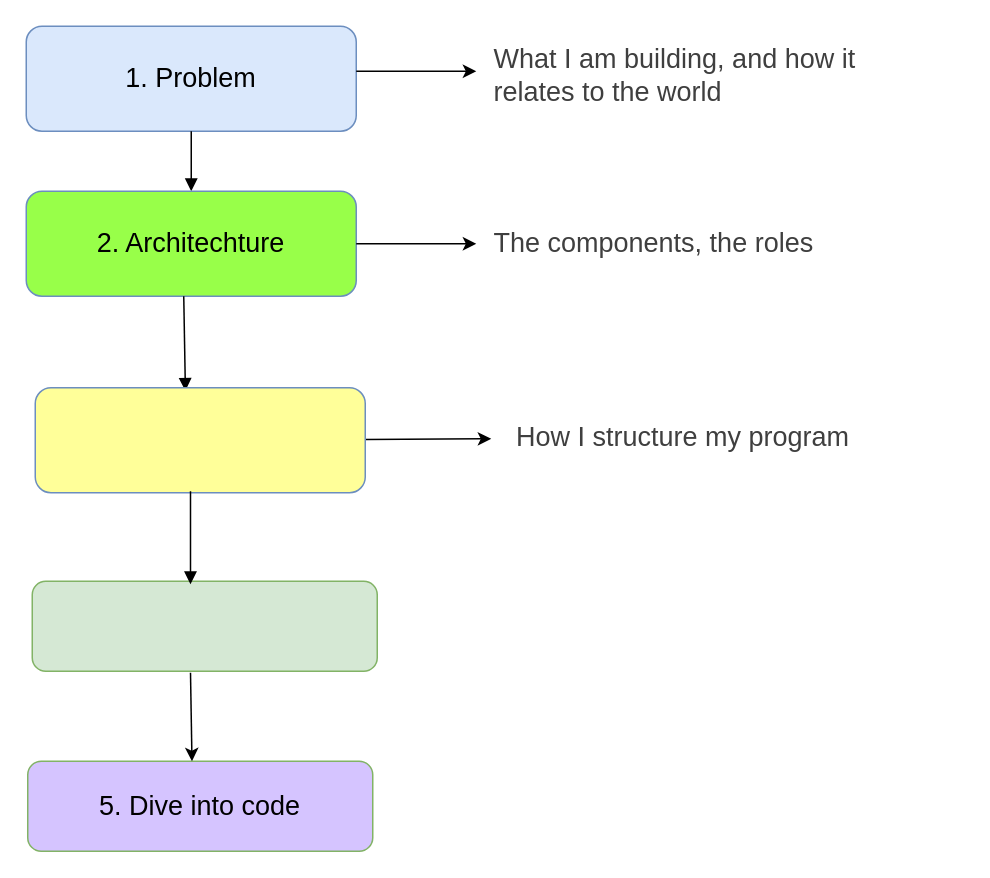
Image size: 990x878. Some labels were removed from this diagram. Each missing label, with the box of its shape:
3. Program Flow: (34, 386, 365, 493)
4. Edge cases: (31, 580, 377, 671)
